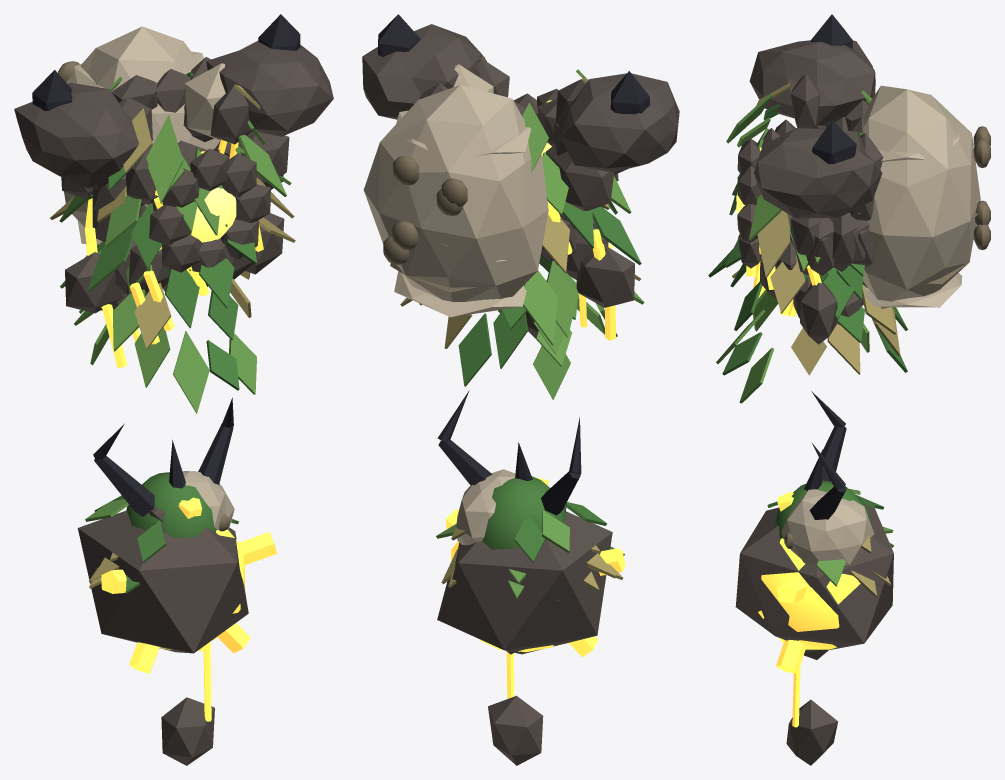
The model's file is tropiczombie.glb.
3 renders of one model, left to right at view 1: azimuth 30°, elevation 25°; view 2: azimuth 150°, elevation 25°; view 3: azimuth 270°, elevation 25°, orthographic. The views are drawn at different scales.
Visible parts, largest first — view 1: titan_armor, lurker_ghillie, lava_bomb, magma_crust, hive_nest, lurker_hood, titan_horns, titan_arm, titan_core, hive_head; view 2: hive_nest, titan_armor, lava_bomb, lurker_ghillie, lurker_hood, magma_crust, titan_arm, titan_horns, hive_head; view 3: titan_armor, hive_nest, lava_bomb, lurker_ghillie, hive_head, magma_crust, titan_arm, titan_horns, lurker_hood.
Boxes of the visible parts, x1,y1,x2,y2 form: titan_armor: [14, 14, 333, 367]; lurker_ghillie: [50, 72, 295, 413]; lava_bomb: [77, 497, 277, 673]; magma_crust: [92, 69, 256, 342]; hive_nest: [58, 26, 225, 244]; lurker_hood: [85, 472, 238, 593]; titan_horns: [93, 397, 233, 522]; titan_arm: [161, 641, 214, 765]; titan_core: [155, 151, 236, 250]; hive_head: [182, 471, 234, 531]; hive_nest: [363, 64, 548, 317]; titan_armor: [362, 14, 679, 340]; lava_bomb: [437, 477, 625, 656]; lurker_ghillie: [400, 56, 644, 399]; lurker_hood: [436, 476, 624, 600]; magma_crust: [478, 59, 608, 338]; titan_arm: [488, 651, 543, 765]; titan_horns: [437, 390, 581, 516]; hive_head: [456, 469, 515, 545]; titan_armor: [737, 14, 883, 344]; hive_nest: [863, 85, 990, 308]; lava_bomb: [735, 492, 893, 673]; lurker_ghillie: [708, 83, 907, 403]; hive_head: [781, 489, 874, 567]; magma_crust: [760, 74, 868, 324]; titan_arm: [786, 649, 837, 765]; titan_horns: [804, 391, 846, 519]; lurker_hood: [767, 480, 893, 596].
Bounding box in the file's own units: 1.07 × 2.55 × 0.9409.
